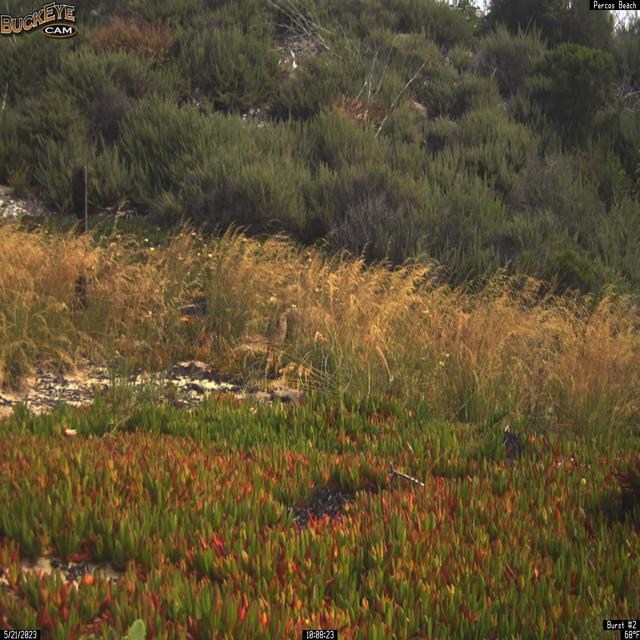coyote: (262, 294, 341, 370)
